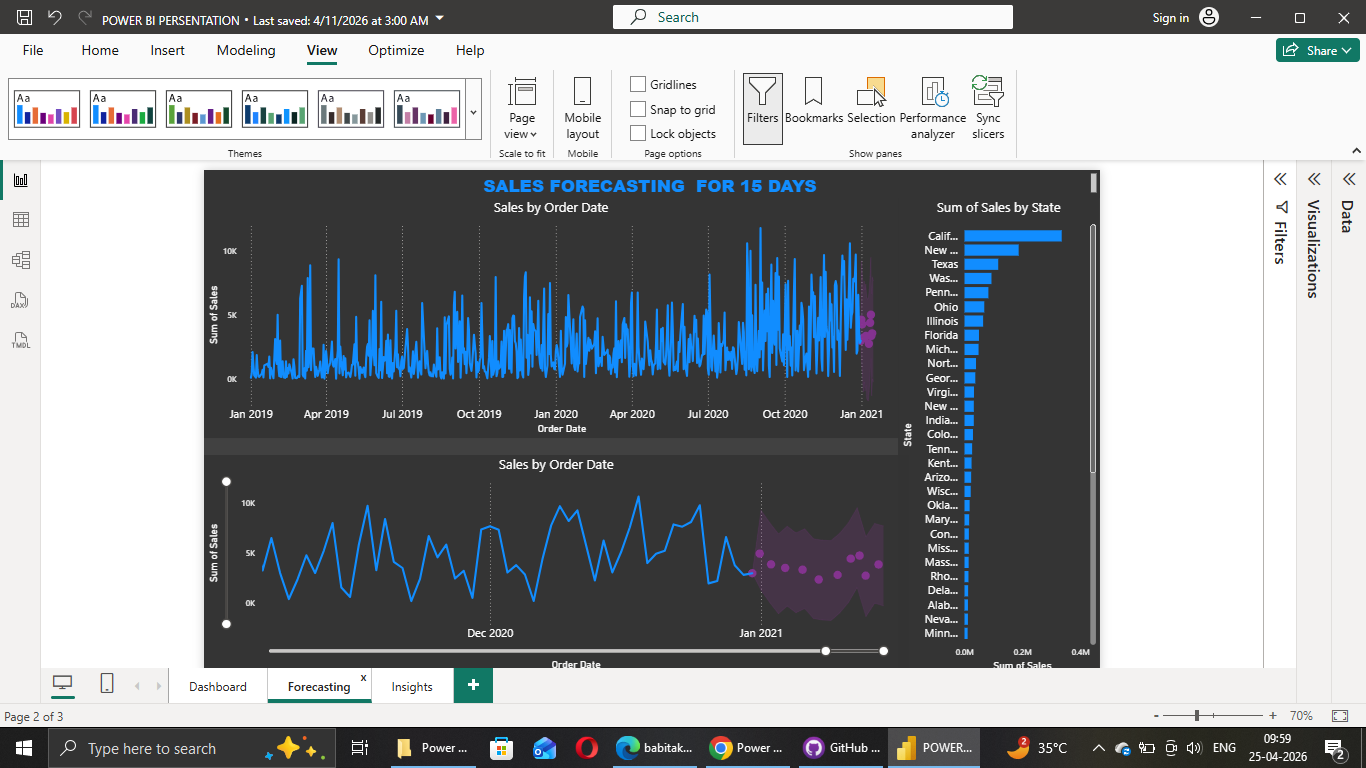

This screenshot's page, from the dashboard's own definition file:
{"tool":"powerbi","page":{"name":"Forecasting","canvas":[1280,720],"ordinal":1},"visuals":[{"type":"lineChart","title":"Sales by Order Date","fields":{"Y":["Sum(SuperStore Sales DataSet.Sales)"],"Category":["SuperStore Sales DataSet.Order Date"]},"box":[0,40.3,992.2,342.7],"z":0},{"type":"lineChart","title":"Sales by Order Date","fields":{"Y":["Sum(SuperStore Sales DataSet.Sales)"],"Category":["SuperStore Sales DataSet.Order Date"]},"box":[0,407.5,1006.6,312.5],"z":1000},{"type":"textbox","box":[0,0,1280.2,40.3],"z":2000},{"type":"barChart","fields":{"Category":["SuperStore Sales DataSet.State"],"Y":["Sum(SuperStore Sales DataSet.Sales)"]},"box":[992.1,39.7,287.7,680.3],"z":3000}]}

Visuals, with their boxes on the page's 1280x720 design canvas (x1, y1, x2, y2). These are canvas units, not pixel positions in the 1366x768 screenshot, which may show the page scaled, cropped or inside an application window:
"Sales by Order Date" lineChart: (0,40,992,383)
"Sales by Order Date" lineChart: (0,408,1007,720)
textbox: (0,0,1280,40)
barChart - SuperStore Sales DataSet.State x Sum(SuperStore Sales DataSet.Sales): (992,40,1280,720)
